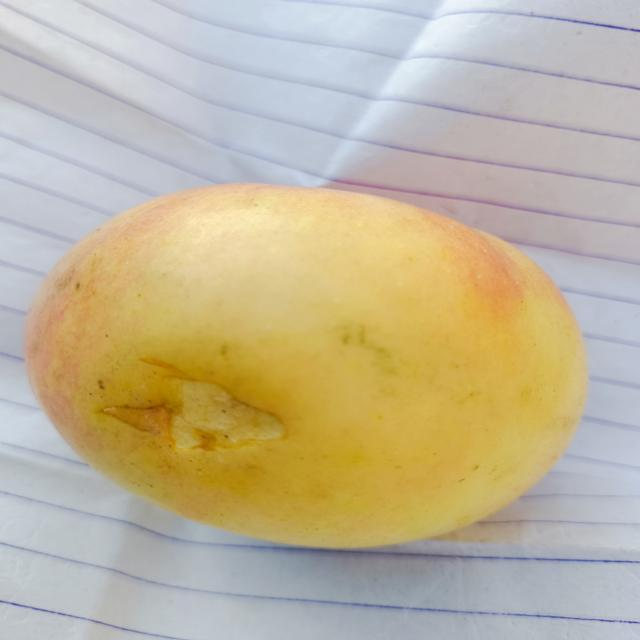Rotten: (31, 177, 582, 538)
